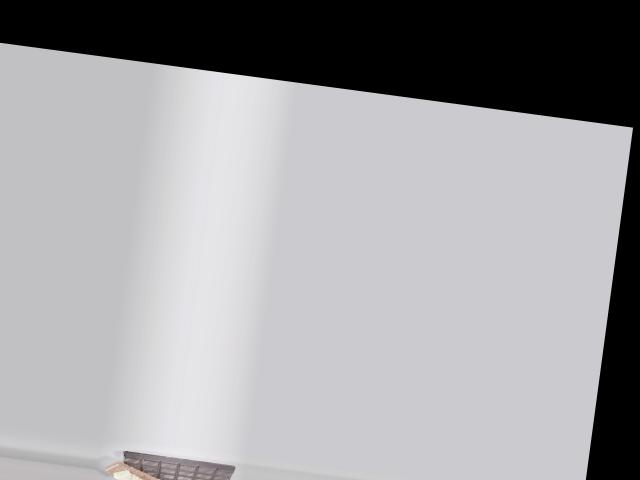chocolate: (112, 446, 236, 480)
